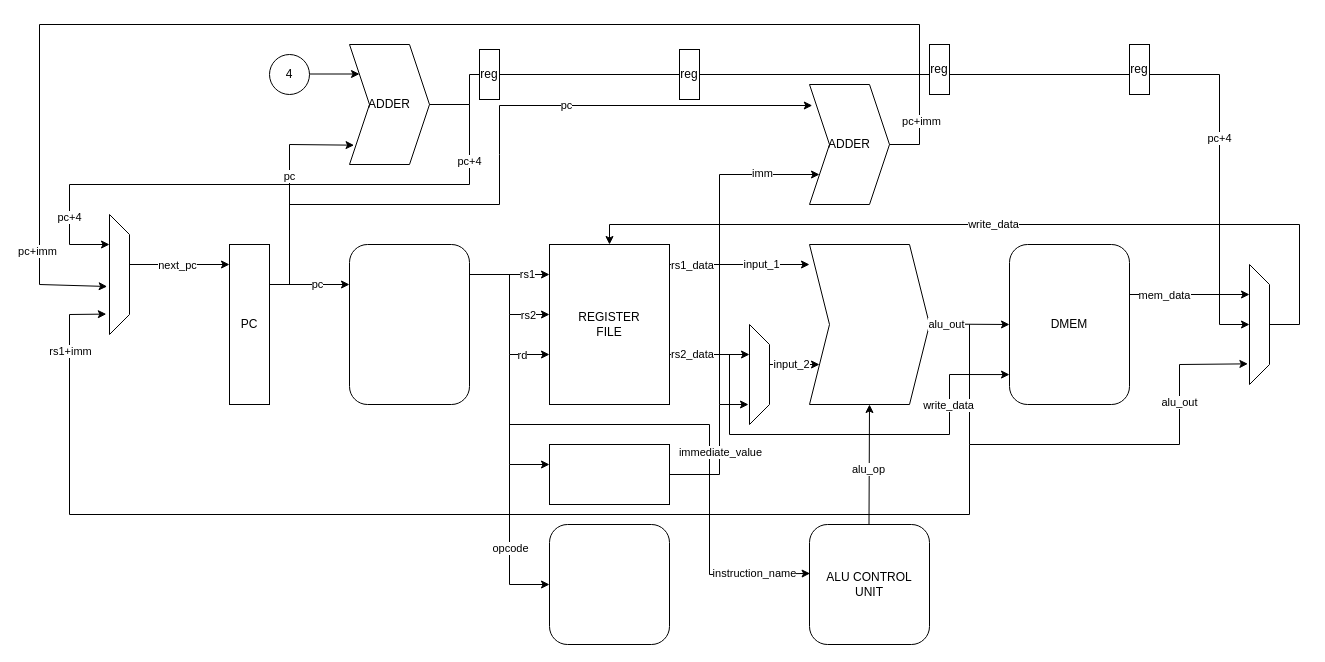
Some shapes in this 1325 by 662 pixel diagram are drawn without their labels. The shapes that lost their labels are listed below. From the top down, each one's centre as x and y in pixels, then its label:
the point at 409,324: IMEM
the point at 869,324: ALU
the point at 609,474: IMMEDIATE GENERATOR
the point at 609,584: CONTROL UNIT
